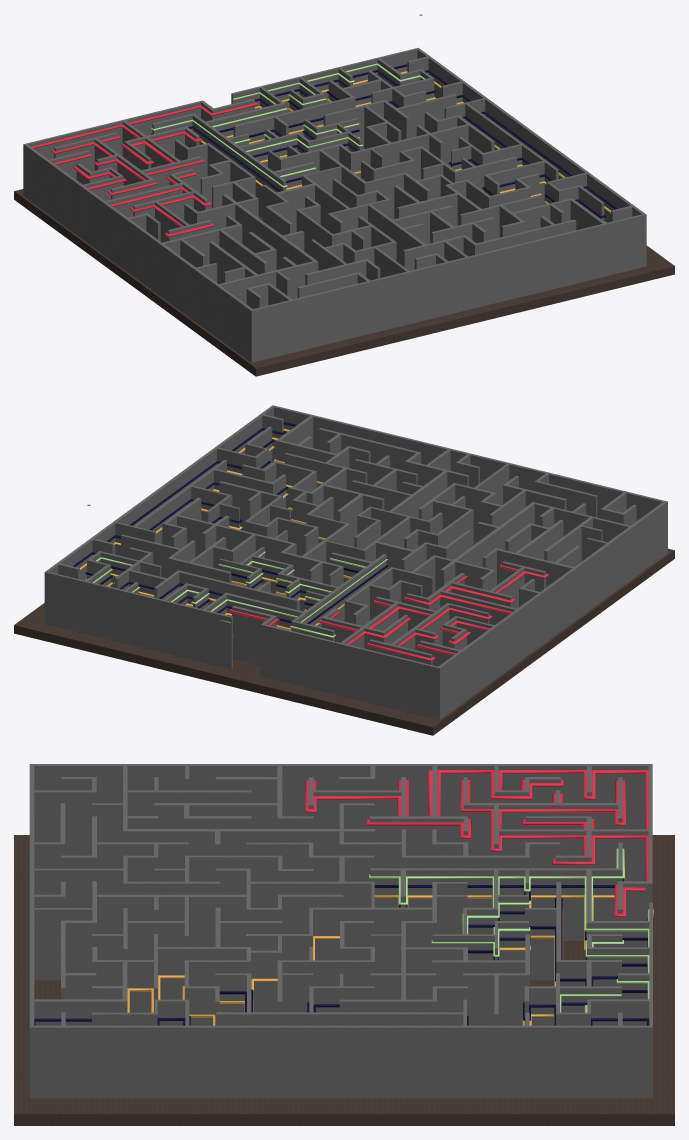
Rendered from holecheck on mazewall.fbx.
3 views of the same model, one above another, from view 1: azimuth 30°, elevation 25°; view 2: azimuth 150°, elevation 25°; view 3: azimuth 270°, elevation 25° (orthographic). The views are drawn at different scales.
Visible parts, largest first — view 1: Cube.333, Cube.037, Cube.019, Plane, Plane.003, Cube.015, Cube.025, Cube.042, Cube.024, Cube.014, Cube.004, Cube.007 (+45 smaller); view 2: Cube.333, Cube.055, Cube.049, Plane, Cube.058, Plane.003, Cube.267, Cube.269, Cube.010, Cube.014, Cube.007, Cube.282 (+58 smaller); view 3: Cube.333, Cube.046, Cube.045, Plane, Cube.262, Cube.259, Plane.003, Cube.134, Plane.001, Cube.137, Cube.007, Cube.213 (+108 smaller).
Part boxes in pixels (box(x1,y1,x2,y2)): Cube.333: box(14, 189, 674, 376); Cube.037: box(469, 224, 604, 309); Cube.019: box(293, 281, 368, 352); Plane: box(31, 102, 257, 237); Plane.003: box(151, 64, 617, 218); Cube.015: box(253, 299, 293, 361); Cube.025: box(410, 261, 450, 323); Cube.042: box(606, 213, 646, 275); Cube.024: box(370, 271, 410, 333); Cube.014: box(217, 285, 254, 362); Cube.004: box(47, 161, 83, 237); Cube.007: box(125, 218, 161, 294); Cube.333: box(14, 541, 674, 735); Cube.055: box(339, 643, 437, 719); Cube.049: box(260, 623, 339, 695); Plane: box(229, 564, 548, 661); Cube.058: box(162, 600, 202, 661); Plane.003: box(73, 422, 387, 641); Cube.267: box(47, 572, 84, 633); Cube.269: box(86, 581, 123, 642); Cube.010: box(572, 543, 609, 620); Cube.014: box(631, 501, 667, 577); Cube.007: box(539, 568, 575, 645); Cube.282: box(126, 591, 163, 652); Cube.333: box(14, 835, 674, 1125); Cube.046: box(189, 1025, 466, 1098); Cube.045: box(65, 1025, 189, 1098); Plane: box(305, 770, 648, 917); Cube.262: box(529, 1025, 617, 1098); Cube.259: box(467, 1025, 529, 1098); Plane.003: box(34, 878, 649, 1025); Cube.134: box(34, 790, 96, 855); Plane.001: box(369, 848, 653, 1012); Cube.137: box(34, 868, 123, 907); Cube.007: box(282, 764, 375, 816); Cube.213: box(525, 868, 586, 940).
Bounding box in the file's own units: 14105 × 3728 × 14105.
7 materials, 2 textured.
